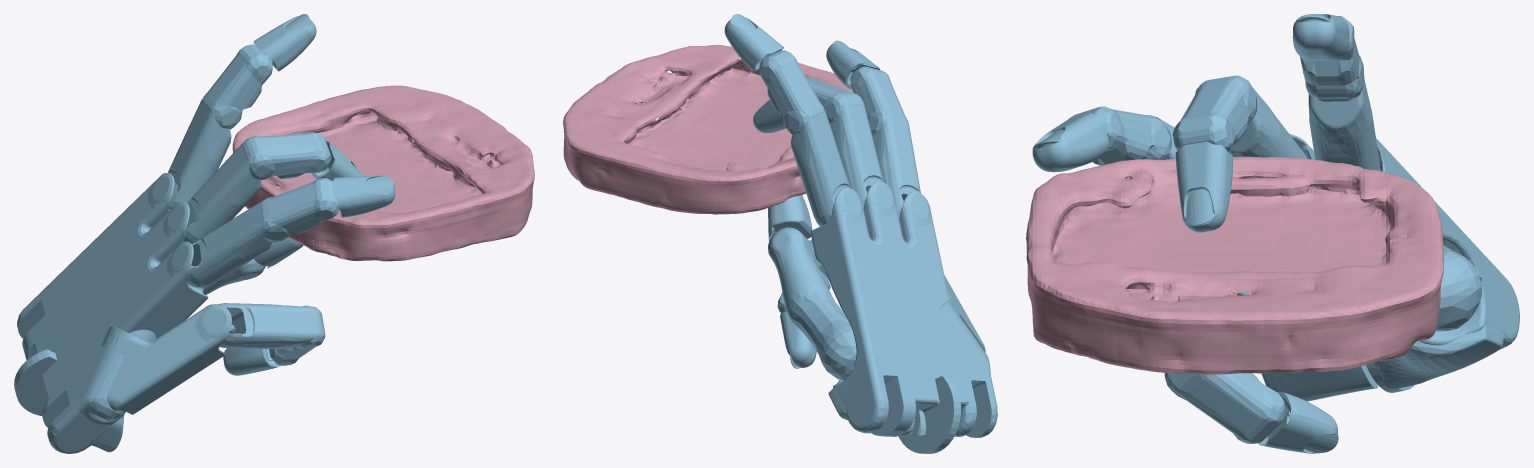
3 renders of one model, left to right at view 1: azimuth 30°, elevation 25°; view 2: azimuth 150°, elevation 25°; view 3: azimuth 270°, elevation 25°, orthographic. The views are drawn at different scales.
Visible parts, largest first — view 1: hand, world; view 2: hand, world; view 3: world, hand.
Boxes of the visible parts, x1=… form: hand: x1=14, y1=14, x2=395, y2=453; world: x1=232, y1=85, x2=534, y2=261; hand: x1=724, y1=14, x2=997, y2=453; world: x1=563, y1=44, x2=853, y2=214; world: x1=1026, y1=156, x2=1443, y2=374; hand: x1=1032, y1=14, x2=1519, y2=453.
Bounding box in the file's own units: 0.222 × 0.1855 × 0.1554.
